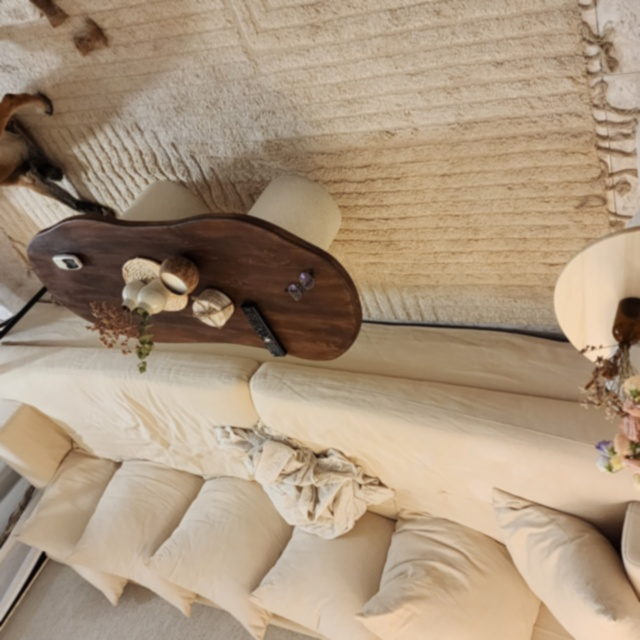glasses: (279, 264, 319, 305)
